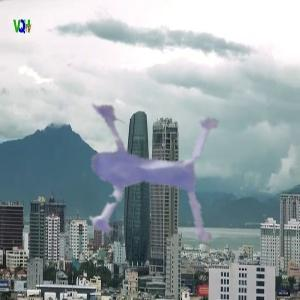drone: (14, 46, 260, 292)
